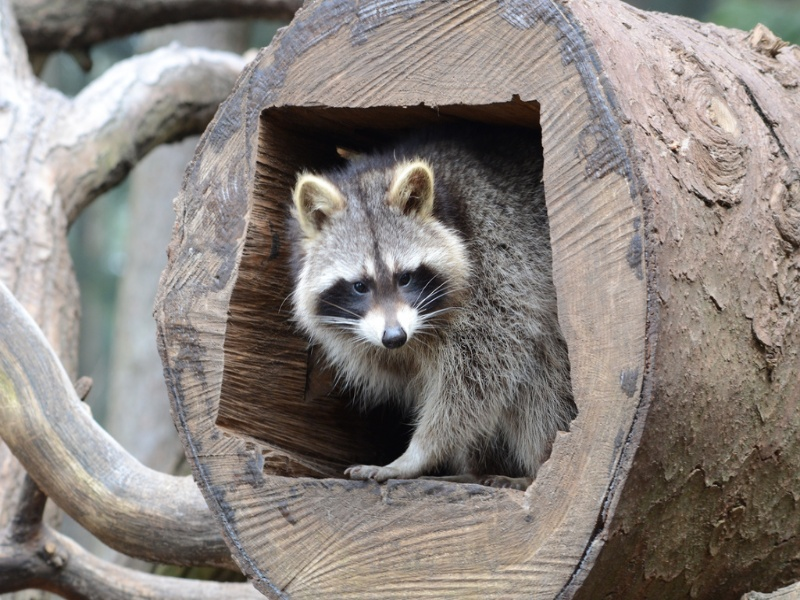raccoon: (281, 144, 584, 505)
